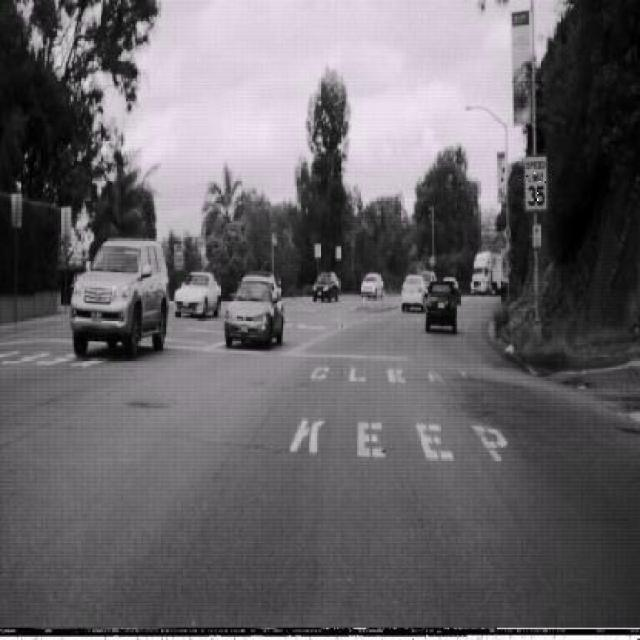speedLimit35: (525, 152, 549, 212)
